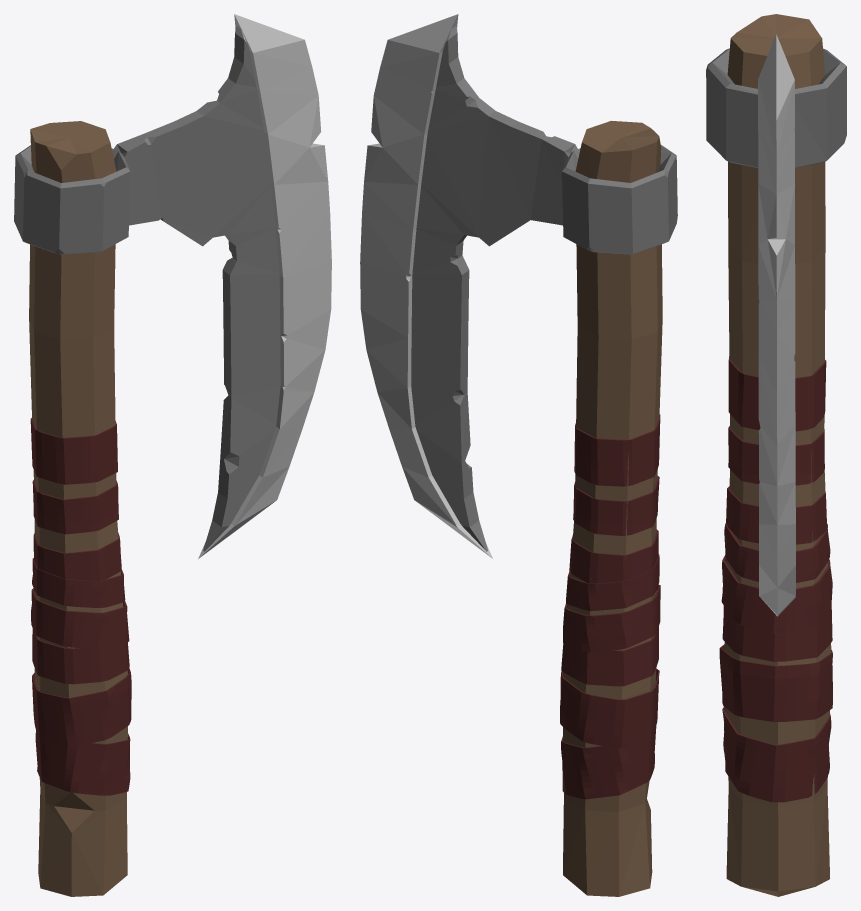
Rendered from Axe.fbx.
The picture shows the model from 3 angles, left to right: view 1: azimuth 30°, elevation 25°; view 2: azimuth 150°, elevation 25°; view 3: azimuth 270°, elevation 25°; orthographic projection. The views are drawn at different scales.
Visible parts, largest first — view 1: Plane, Cylinder.012, Cylinder.011, Cylinder.018, Cylinder.014, Cylinder.013, Cylinder.017, Cylinder.015, Cylinder.016; view 2: Plane, Cylinder.012, Cylinder.011, Cylinder.018, Cylinder.014, Cylinder.013, Cylinder.017, Cylinder.015, Cylinder.016; view 3: Plane, Cylinder.012, Cylinder.011, Cylinder.014, Cylinder.018, Cylinder.013, Cylinder.017, Cylinder.016, Cylinder.015.
Part boxes in pixels (left/top/right/bottom): Plane: left=14, top=14, right=331, bottom=896; Cylinder.012: left=32, top=668, right=131, bottom=746; Cylinder.011: left=35, top=730, right=130, bottom=795; Cylinder.018: left=30, top=418, right=117, bottom=484; Cylinder.014: left=31, top=588, right=129, bottom=649; Cylinder.013: left=32, top=628, right=129, bottom=684; Cylinder.017: left=32, top=480, right=118, bottom=534; Cylinder.015: left=32, top=558, right=125, bottom=607; Cylinder.016: left=33, top=533, right=121, bottom=581; Plane: left=360, top=14, right=677, bottom=896; Cylinder.012: left=560, top=668, right=659, bottom=748; Cylinder.011: left=561, top=726, right=656, bottom=799; Cylinder.018: left=574, top=414, right=660, bottom=486; Cylinder.014: left=563, top=584, right=660, bottom=652; Cylinder.013: left=561, top=626, right=658, bottom=686; Cylinder.017: left=573, top=476, right=659, bottom=535; Cylinder.015: left=566, top=554, right=659, bottom=611; Cylinder.016: left=569, top=529, right=658, bottom=583; Plane: left=706, top=14, right=846, bottom=896; Cylinder.012: left=719, top=644, right=832, bottom=721; Cylinder.011: left=722, top=707, right=831, bottom=802; Cylinder.014: left=721, top=555, right=832, bottom=633; Cylinder.018: left=728, top=356, right=826, bottom=431; Cylinder.013: left=722, top=601, right=832, bottom=661; Cylinder.017: left=728, top=426, right=824, bottom=485; Cylinder.016: left=726, top=486, right=827, bottom=544; Cylinder.015: left=724, top=523, right=830, bottom=582.
Size of the model in its own units: 28.65 by 74.73 by 10.06.
